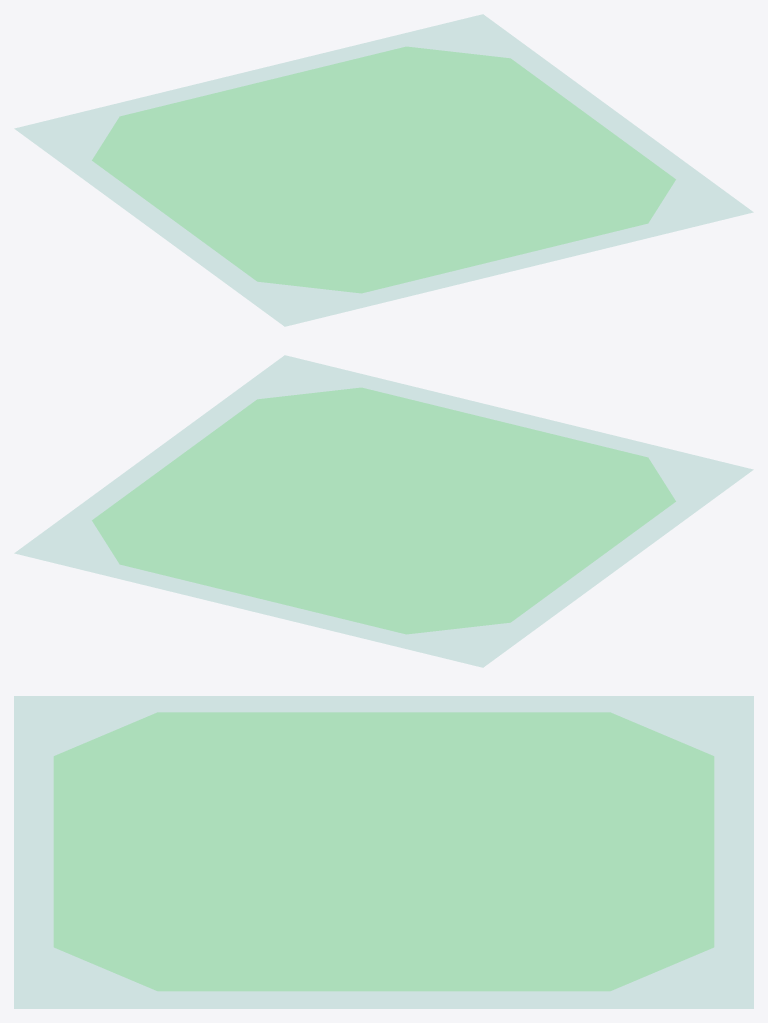
The model's file is Tile.fbx.
The picture shows the model from 3 angles, top to bottom: view 1: azimuth 30°, elevation 25°; view 2: azimuth 150°, elevation 25°; view 3: azimuth 270°, elevation 25°; orthographic projection. The views are drawn at different scales.
Visible parts, largest first — view 1: Plane; view 2: Plane; view 3: Plane.
Boxes of the visible parts, <box> form: Plane: <box>14,14,753,326</box>; Plane: <box>14,355,753,667</box>; Plane: <box>14,696,753,1008</box>.
Bounding box in the file's own units: 1 × 0.001 × 1.
